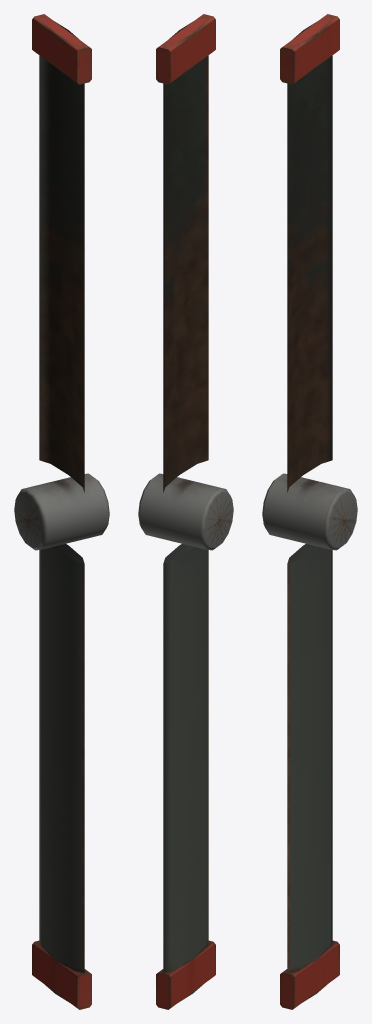
File: helicopter_tail_rotor.glb
3 renders of one model, left to right at view 1: azimuth 30°, elevation 25°; view 2: azimuth 150°, elevation 25°; view 3: azimuth 330°, elevation 25°, orthographic.
Parts seen in each view (by area): view 1: helicopter_tail_rotor; view 2: helicopter_tail_rotor; view 3: helicopter_tail_rotor.
Part boxes in pixels (x1,y1,x2,y2): helicopter_tail_rotor: (14,14,109,1009); helicopter_tail_rotor: (138,14,233,1009); helicopter_tail_rotor: (262,14,357,1009).
Size of the model in its own units: 0.12 by 1.64 by 0.14.
1 material, 1 textured.
